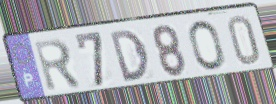0: (226, 14, 263, 68)
7: (73, 30, 107, 89)
8: (150, 23, 189, 78)
D: (107, 28, 151, 84)
O: (188, 19, 227, 72)
R: (32, 37, 84, 94)
